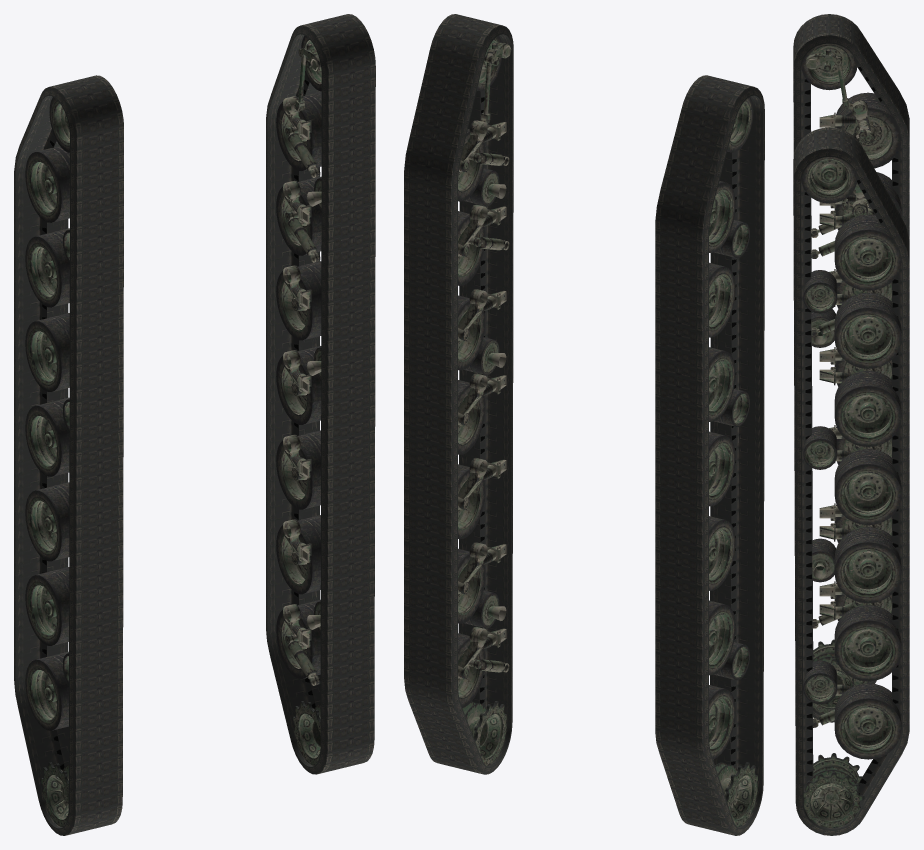
Rendered from Chassis.glb.
3 renders of one model, left to right at view 1: azimuth 30°, elevation 25°; view 2: azimuth 150°, elevation 25°; view 3: azimuth 270°, elevation 25°, orthographic. The views are drawn at different scales.
Parts seen in each view (by area): view 1: set_0_group_0, set_1_group_0, set_3_group_0, set_2_group_0; view 2: set_0_group_0, set_1_group_0, set_3_group_0, set_2_group_0; view 3: set_3_group_0, set_1_group_0, set_2_group_0, set_0_group_0.
Boxes of the visible parts, box(x1,y1,x2,y2) form: set_0_group_0: box(14, 75, 123, 835); set_1_group_0: box(266, 14, 375, 774); set_3_group_0: box(276, 35, 321, 765); set_2_group_0: box(25, 97, 69, 826); set_0_group_0: box(655, 75, 764, 835); set_1_group_0: box(404, 14, 513, 774); set_3_group_0: box(458, 35, 511, 765); set_2_group_0: box(709, 97, 757, 826); set_3_group_0: box(801, 157, 901, 828); set_1_group_0: box(793, 127, 909, 835); set_2_group_0: box(801, 43, 901, 713); set_0_group_0: box(793, 14, 909, 722).
Bounding box in the file's own units: 3.35 × 7.83 × 1.2.
Materials: 4 (4 with a texture image).
